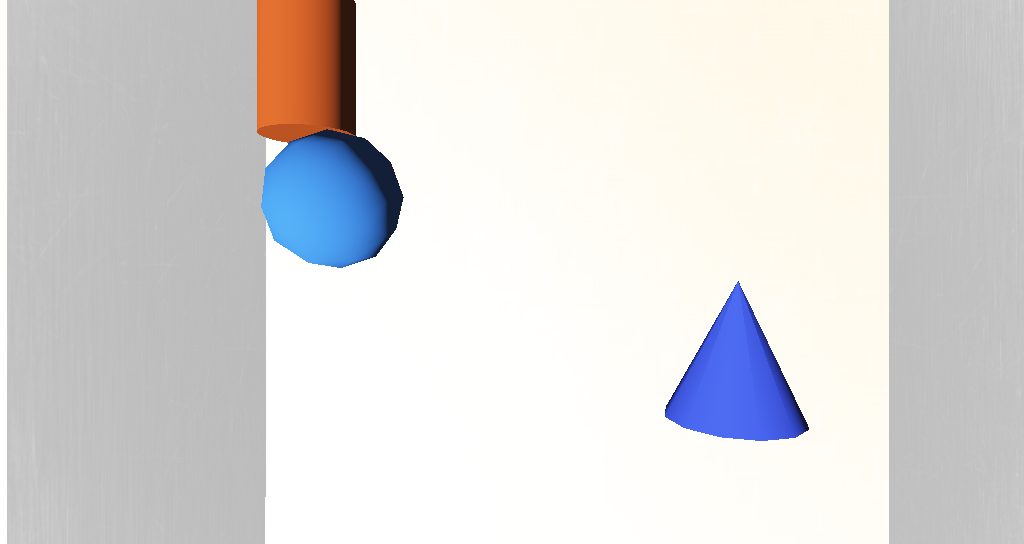cone: (350, 177, 404, 224)
cylinder: (549, 270, 610, 322)
sphere: (357, 220, 424, 267)
